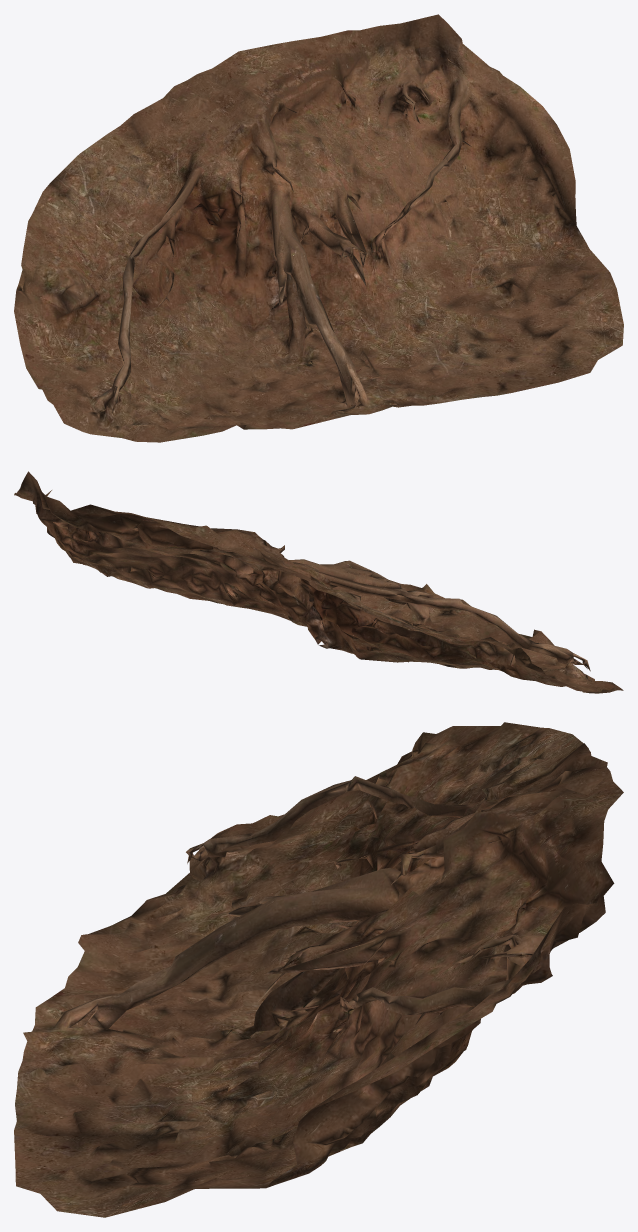
File: root_cluster_01.glb
The picture shows the model from 3 angles, top to bottom: view 1: azimuth 30°, elevation 25°; view 2: azimuth 150°, elevation 25°; view 3: azimuth 270°, elevation 25°; orthographic projection. The views are drawn at different scales.
Visible parts, largest first — view 1: root_cluster_01; view 2: root_cluster_01; view 3: root_cluster_01.
Part boxes in pixels (x1=…): root_cluster_01: x1=14, y1=14, x2=623, y2=442; root_cluster_01: x1=14, y1=471, x2=623, y2=693; root_cluster_01: x1=14, y1=722, x2=623, y2=1217.
Size of the model in its own units: 4.12 by 1.51 by 2.68.
Materials: 1 (1 with a texture image).
